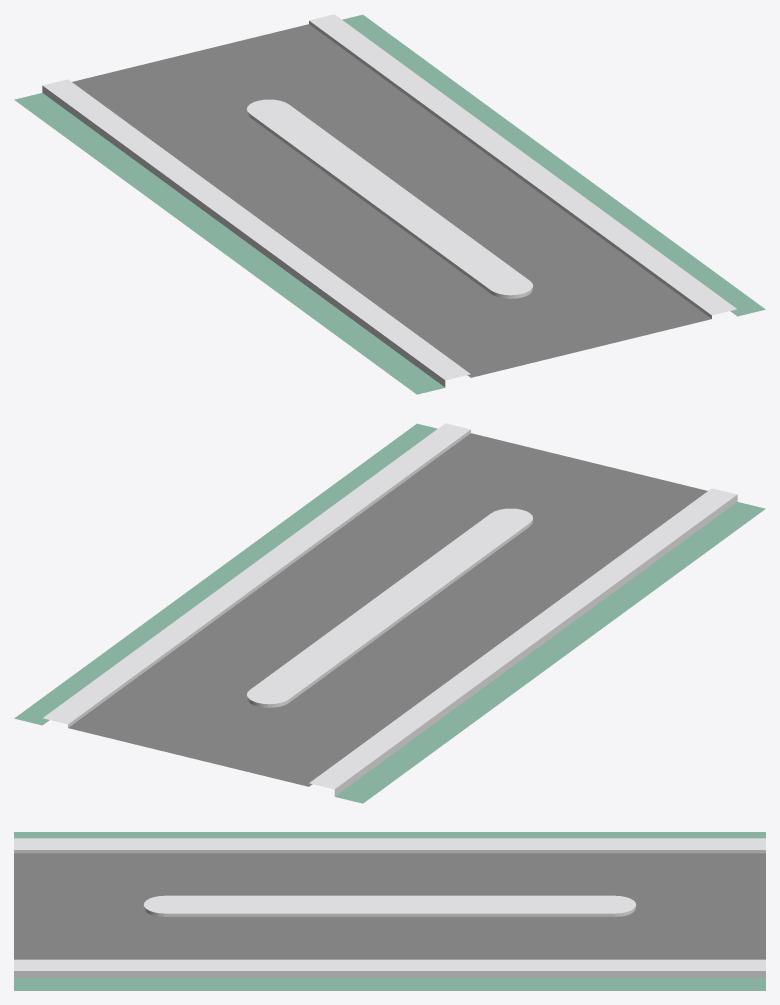
The model's file is roadStraightLongMid.gltf.
3 renders of one model, top to bottom at view 1: azimuth 30°, elevation 25°; view 2: azimuth 150°, elevation 25°; view 3: azimuth 270°, elevation 25°, orthographic. The views are drawn at different scales.
Parts seen in each view (by area): view 1: roadStraightLongMid; view 2: roadStraightLongMid; view 3: roadStraightLongMid.
Boxes of the visible parts, left/top/right/bottom form: roadStraightLongMid: left=14, top=14, right=765, bottom=394; roadStraightLongMid: left=14, top=423, right=765, bottom=803; roadStraightLongMid: left=14, top=832, right=765, bottom=990.
Size of the model in its own units: 10 by 0.2 by 20.
